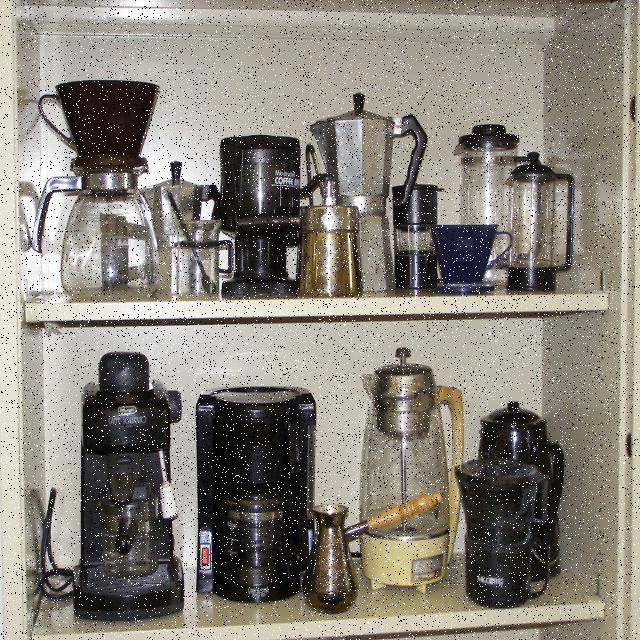Coffee-Machine: (35, 349, 193, 623), (187, 372, 333, 628), (29, 63, 180, 304), (360, 330, 476, 588), (309, 84, 435, 300), (468, 377, 568, 607), (208, 110, 308, 306), (510, 148, 598, 298)
